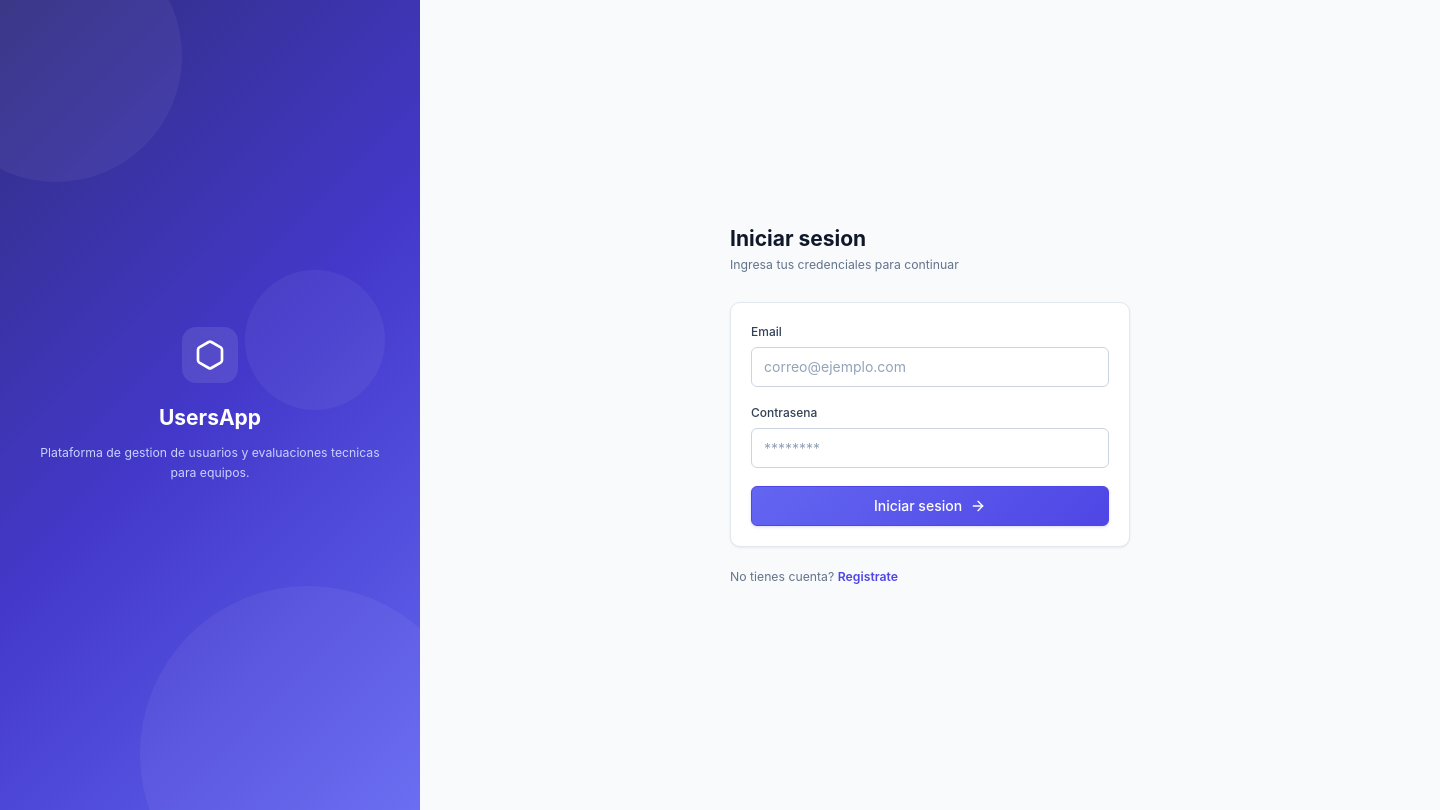
Login Page › debe mostrar error de API tras login fallido
Type "bad@test.com" into the field labelled "Email" at (930, 367), box [751,347,1109,387]
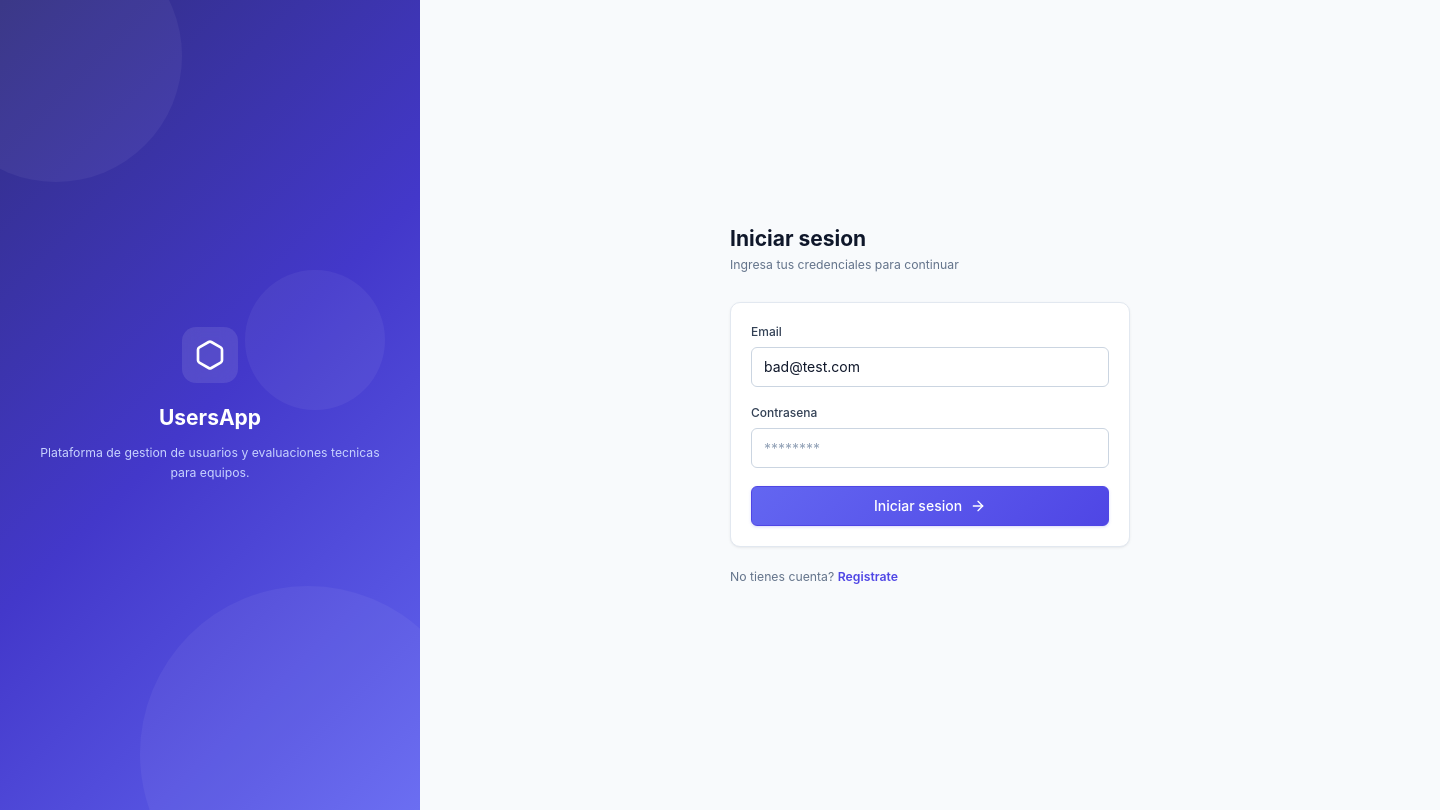
Type "Wrong1!" into the password field labelled "Contrasena" at (930, 448), box [751,428,1109,468]
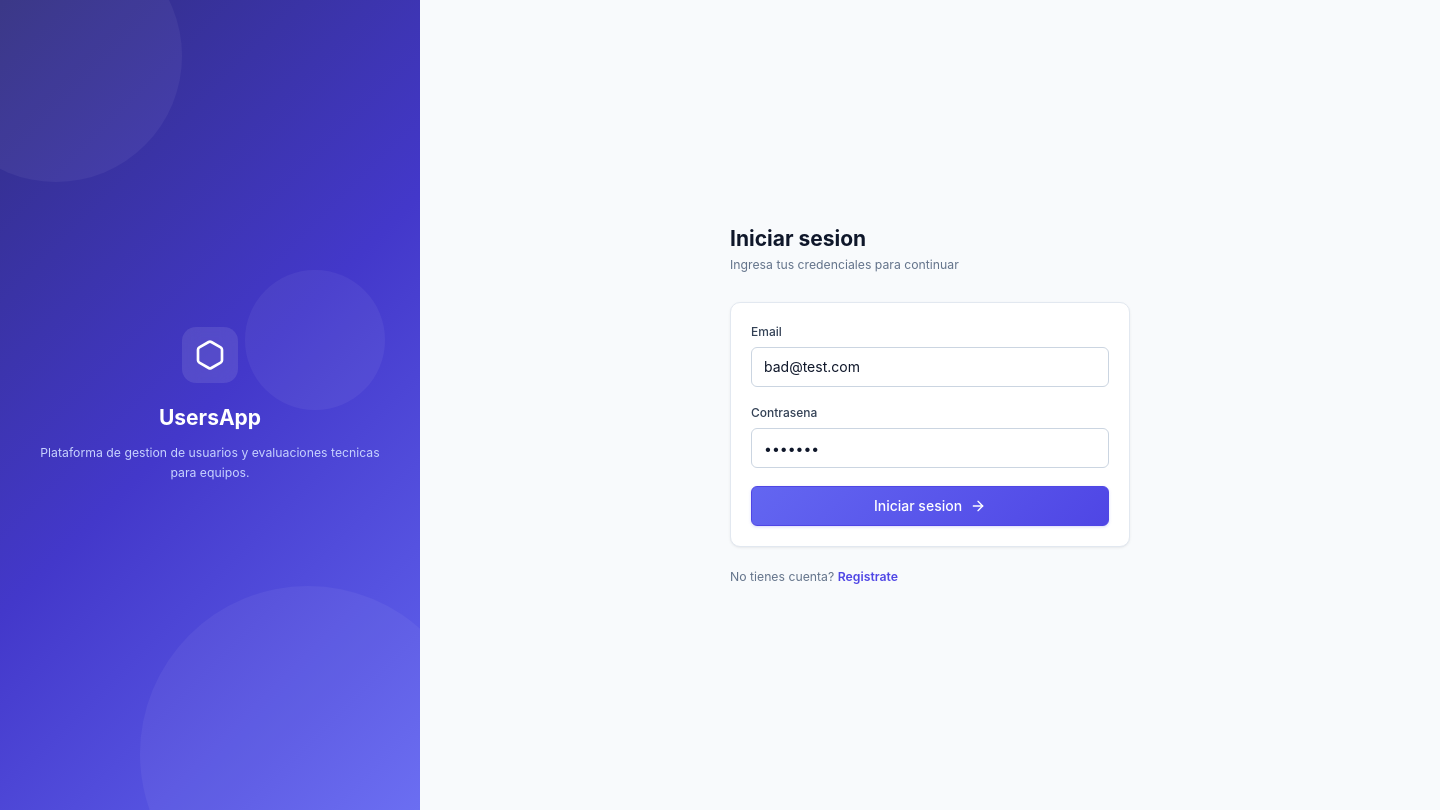
Click the button "Iniciar sesion" at (930, 506), box [751,486,1109,526]
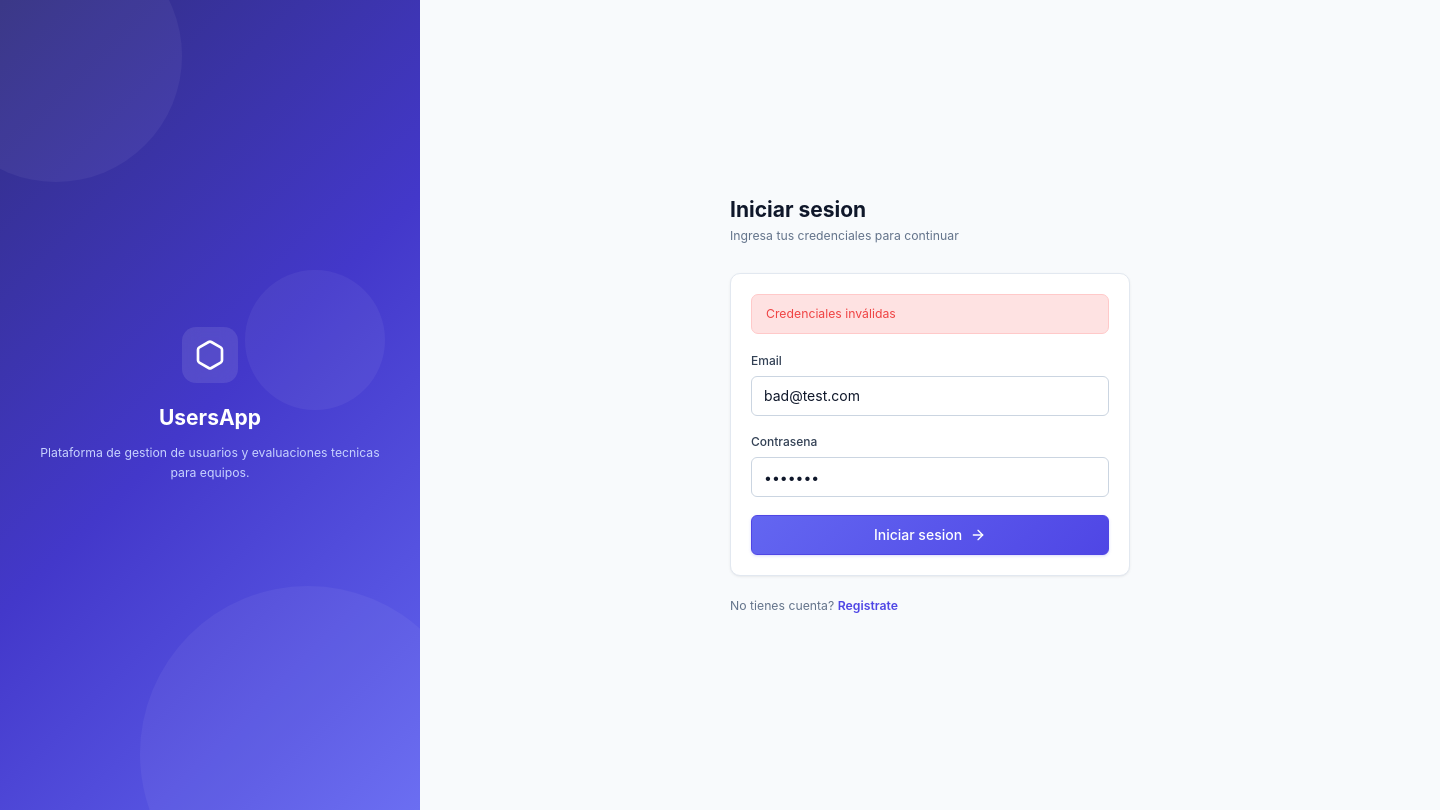
Result: the text "Credenciales inválidas" is shown at [751,294,1109,334]
